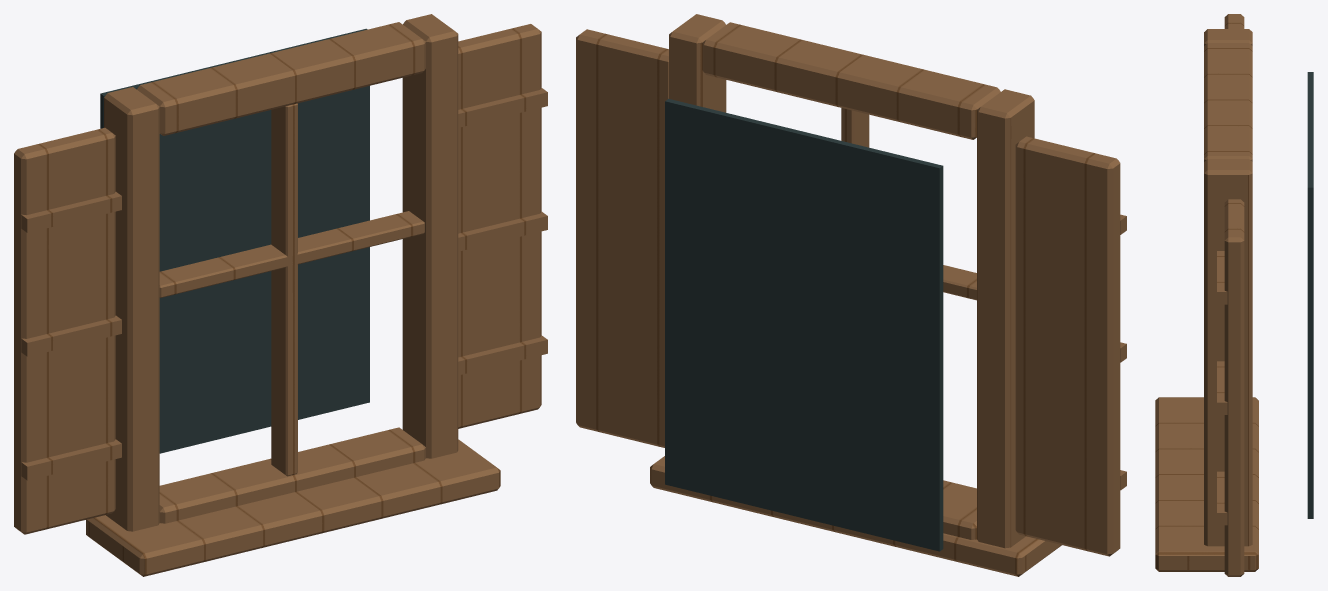
The model's file is window-shutter.glb.
3 renders of one model, left to right at view 1: azimuth 30°, elevation 25°; view 2: azimuth 150°, elevation 25°; view 3: azimuth 270°, elevation 25°, orthographic. The views are drawn at different scales.
Visible parts, largest first — view 1: SM_Window_Recess.001, SM_Window_Shutter, SM_Window_Shutter.001, SM_Window_Jamb.003, SM_Window_Jamb.002, SM_Window_Sill.001, SM_Window_Rail.003, SM_Window_Rail.002, SM_Window_Mullion.001, SM_Window_Crossbar.001, SM_Window_ShutterRail, SM_Window_ShutterRail.001 (+4 smaller); view 2: SM_Window_Recess.001, SM_Window_Shutter, SM_Window_Shutter.001, SM_Window_Jamb.002, SM_Window_Rail.003, SM_Window_Sill.001, SM_Window_Jamb.003, SM_Window_Rail.002, SM_Window_Mullion.001, SM_Window_Crossbar.001; view 3: SM_Window_Jamb.003, SM_Window_Sill.001, SM_Window_Shutter.001, SM_Window_Rail.003, SM_Window_Recess.001, SM_Window_Jamb.002, SM_Window_ShutterRail.003, SM_Window_ShutterRail.005, SM_Window_ShutterRail.004, SM_Window_Shutter.
Part boxes in pixels (x1,y1,x2,y2): SM_Window_Recess.001: [100, 28, 369, 453]; SM_Window_Shutter: [14, 127, 115, 534]; SM_Window_Shutter.001: [458, 24, 541, 428]; SM_Window_Jamb.003: [402, 14, 458, 458]; SM_Window_Jamb.002: [104, 87, 159, 531]; SM_Window_Sill.001: [86, 439, 500, 576]; SM_Window_Rail.003: [137, 22, 425, 135]; SM_Window_Rail.002: [159, 427, 425, 523]; SM_Window_Mullion.001: [271, 103, 297, 476]; SM_Window_Crossbar.001: [159, 211, 424, 297]; SM_Window_ShutterRail: [21, 439, 121, 480]; SM_Window_ShutterRail.001: [21, 315, 121, 356]; SM_Window_Recess.001: [665, 98, 943, 551]; SM_Window_Shutter: [1015, 136, 1120, 556]; SM_Window_Shutter.001: [576, 29, 668, 447]; SM_Window_Jamb.002: [977, 89, 1034, 548]; SM_Window_Rail.003: [702, 22, 1000, 139]; SM_Window_Sill.001: [650, 456, 1061, 576]; SM_Window_Jamb.003: [669, 14, 726, 112]; SM_Window_Rail.002: [943, 492, 976, 539]; SM_Window_Mullion.001: [841, 108, 869, 147]; SM_Window_Crossbar.001: [943, 265, 976, 300]; SM_Window_Jamb.003: [1204, 159, 1252, 546]; SM_Window_Sill.001: [1155, 397, 1258, 571]; SM_Window_Shutter.001: [1224, 199, 1244, 576]; SM_Window_Rail.003: [1204, 43, 1252, 161]; SM_Window_Recess.001: [1307, 72, 1313, 518]; SM_Window_Jamb.002: [1204, 29, 1252, 45]; SM_Window_ShutterRail.003: [1217, 471, 1227, 525]; SM_Window_ShutterRail.005: [1217, 251, 1227, 304]; SM_Window_ShutterRail.004: [1217, 361, 1227, 414]; SM_Window_Shutter: [1224, 14, 1244, 28].
Size of the model in its own units: 1.76 by 1.43 by 0.52.
2 materials, 1 textured.
